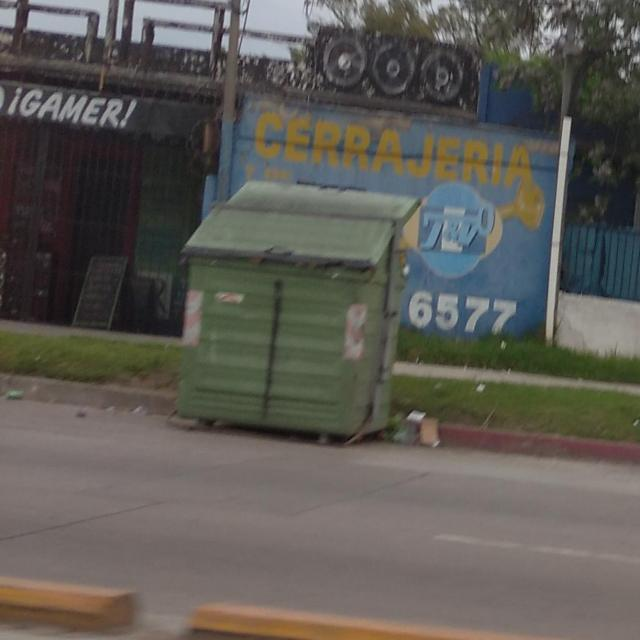garbage: (379, 380, 492, 500)
